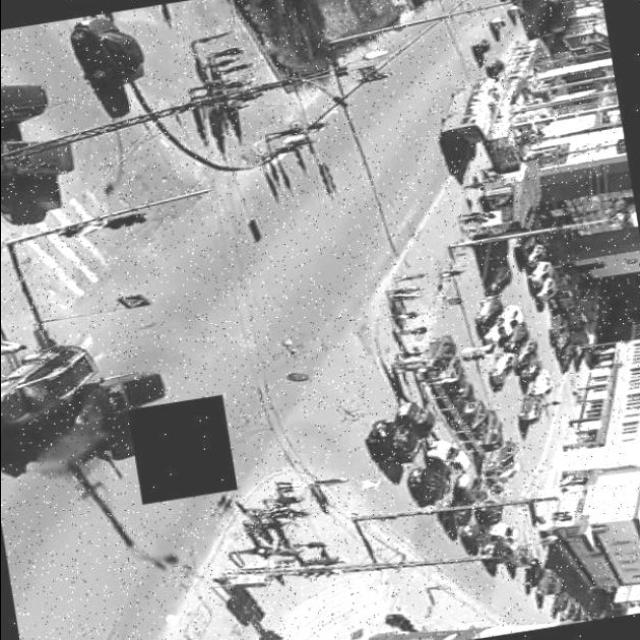accident: (0, 325, 176, 444)
